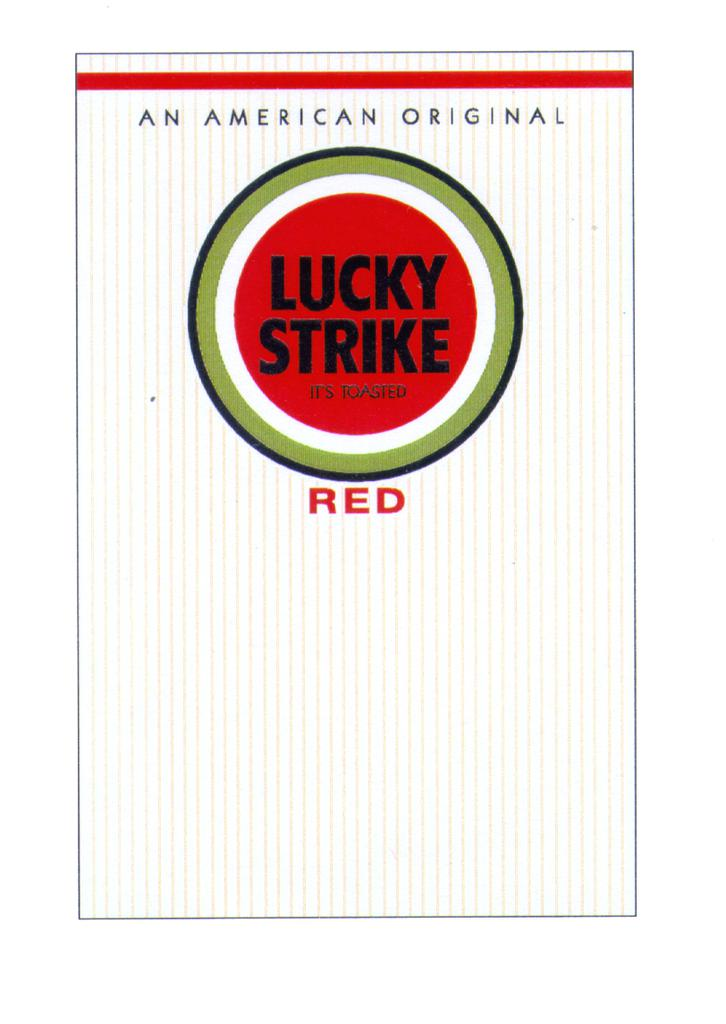lucky_strike_red: (78, 59, 630, 916)
